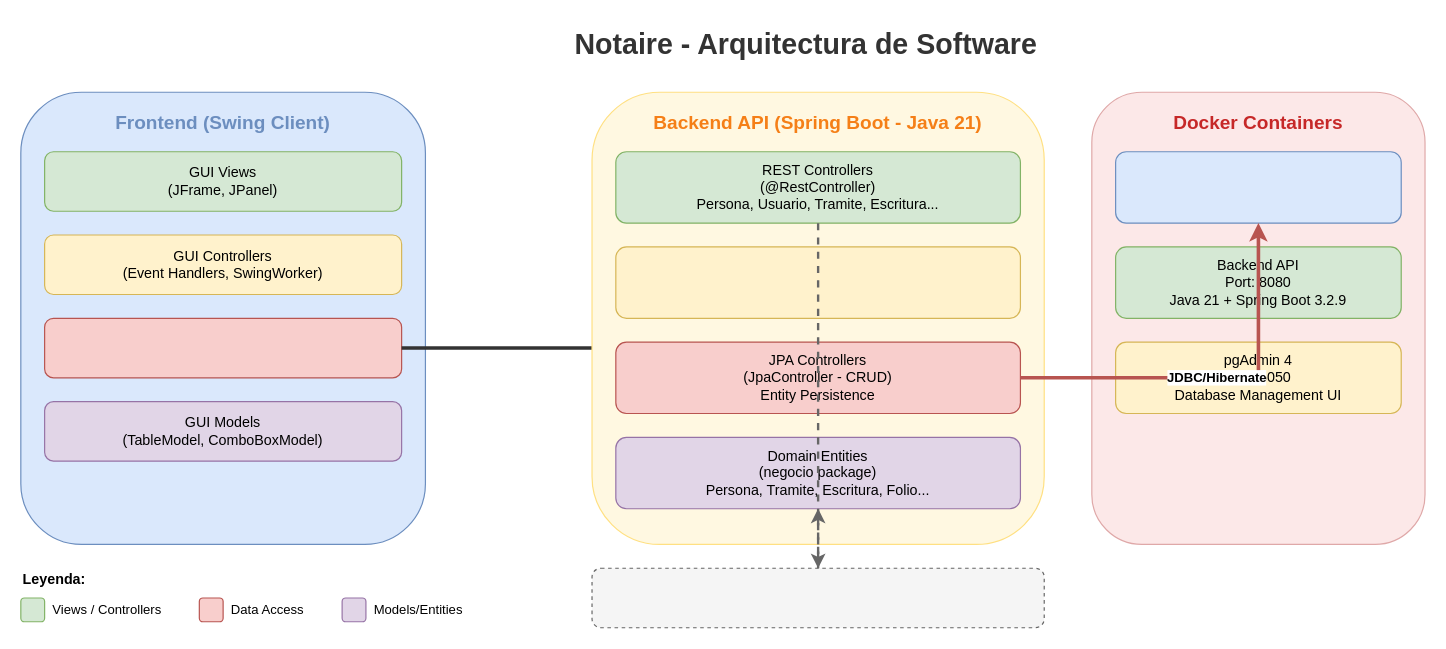
The diagram is 1446 pixels wide and 649 high, and some of its shapes have lost their labels. The box of each missing label's shape, as (x1, y1, x2, y2) in pixels:
Business Services (@Service) ReporteService, AdministradorJpa...: (615, 246, 1020, 318)
notaire-shared Module (Shared DTOs and Common Code): (591, 567, 1044, 628)
PostgreSQL 16 Port: 5432 Database: notary: (1114, 151, 1401, 223)
REST Client (HttpClient - JSON): (43, 317, 402, 378)
